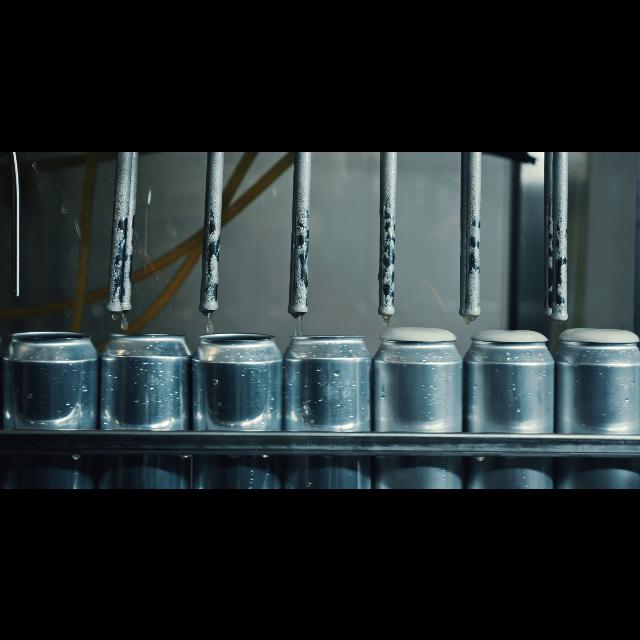empty: (7, 322, 97, 488), (195, 324, 282, 488), (104, 324, 184, 488), (291, 324, 364, 488)
full: (374, 320, 468, 488), (556, 322, 640, 488), (472, 322, 548, 488)
